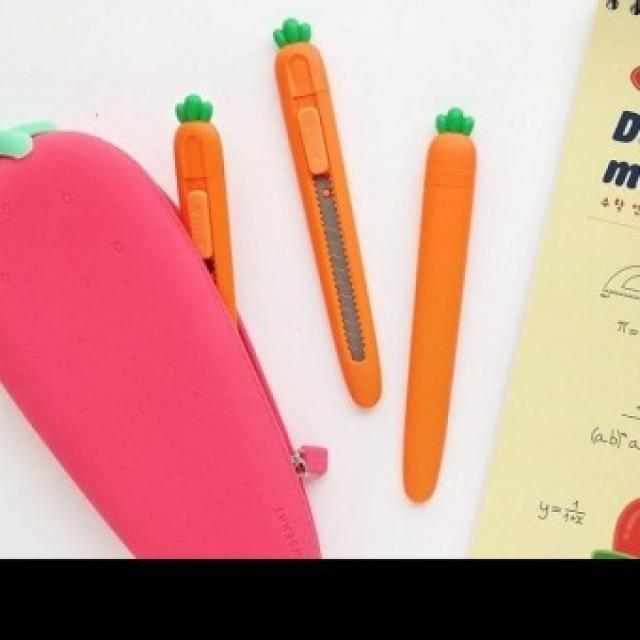cutter: (255, 19, 396, 416), (392, 91, 479, 513), (160, 81, 246, 318)
